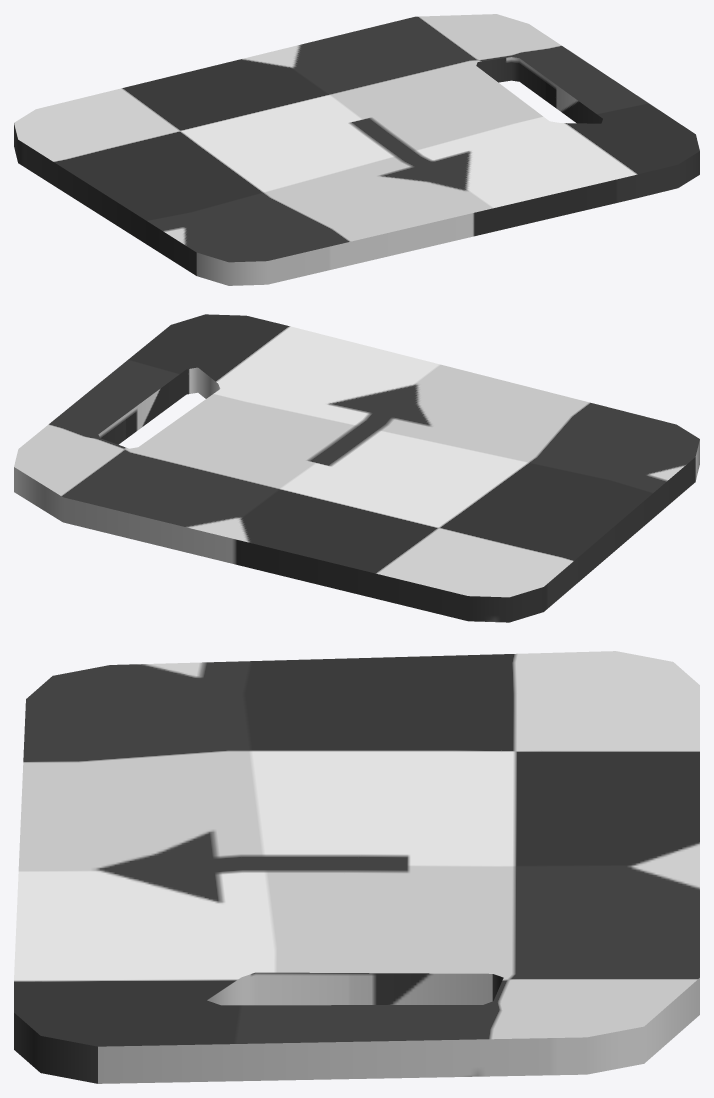
File: SM_CuttingBoard_01.fbx
3 views of the same model, one above another, from view 1: azimuth 30°, elevation 25°; view 2: azimuth 150°, elevation 25°; view 3: azimuth 270°, elevation 25° (orthographic). The views are drawn at different scales.
Visible parts, largest first — view 1: SM_CuttingBoard_01.001; view 2: SM_CuttingBoard_01.001; view 3: SM_CuttingBoard_01.001.
Boxes of the visible parts, x1,y1,x2,y2 form: SM_CuttingBoard_01.001: [14, 14, 699, 285]; SM_CuttingBoard_01.001: [14, 314, 699, 622]; SM_CuttingBoard_01.001: [14, 651, 699, 1083].
Bounding box in the file's own units: 0.4583 × 0.6254 × 0.0275.
1 material, 1 textured.
